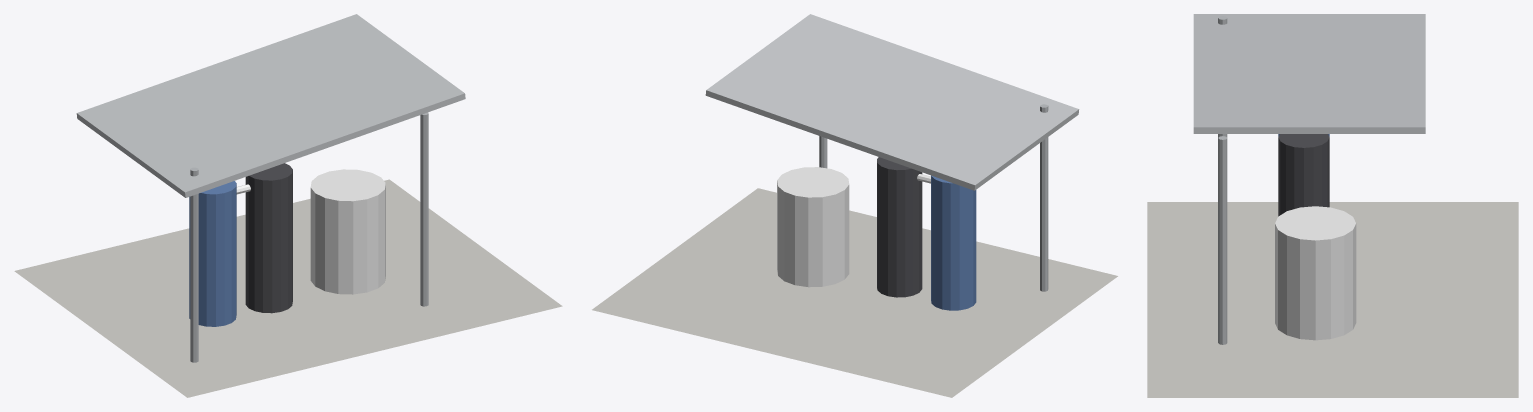
The model's file is estacion_agua_preview.glb.
3 views of the same model, side by side, from view 1: azimuth 30°, elevation 25°; view 2: azimuth 150°, elevation 25°; view 3: azimuth 270°, elevation 25° (orthographic). The views are drawn at different scales.
Bounding box in the file's own units: 4 × 2.2 × 3.2.
